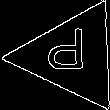P_S: (50, 30, 94, 82)
